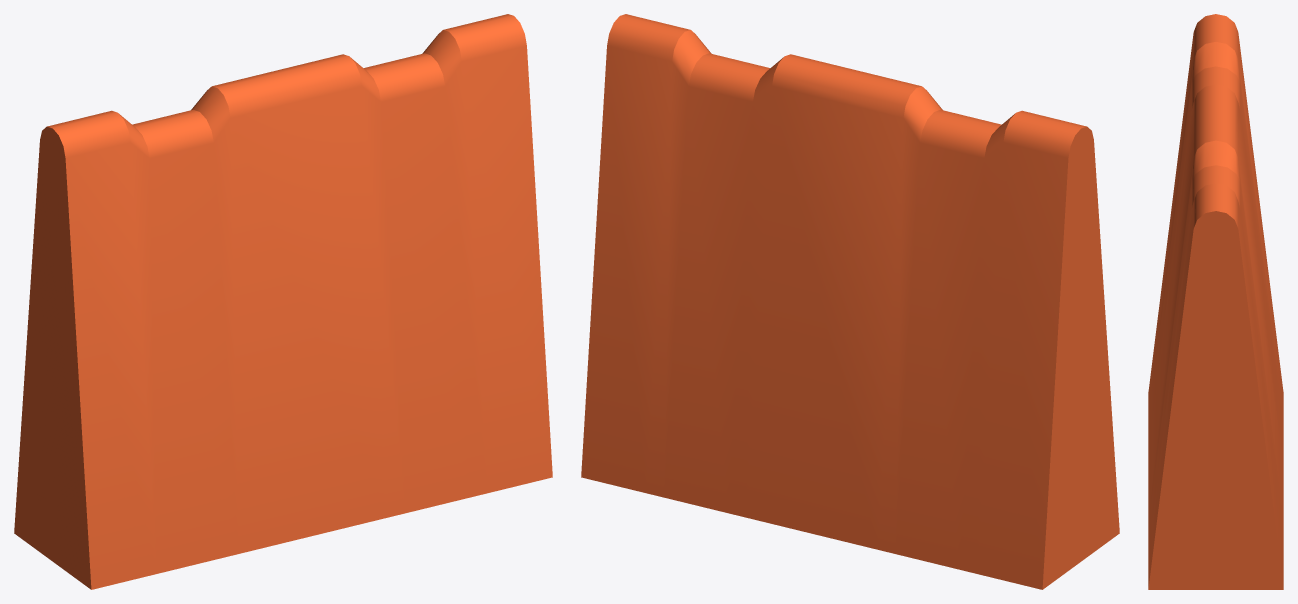
The model's file is Barrier D.fbx.
3 views of the same model, side by side, from view 1: azimuth 30°, elevation 25°; view 2: azimuth 150°, elevation 25°; view 3: azimuth 270°, elevation 25° (orthographic). The views are drawn at different scales.
Visible parts, largest first — view 1: Barrier D; view 2: Barrier D; view 3: Barrier D.
Part boxes in pixels (x1=…): Barrier D: x1=14, y1=14, x2=552, y2=589; Barrier D: x1=581, y1=14, x2=1119, y2=589; Barrier D: x1=1148, y1=14, x2=1283, y2=589.
Size of the model in its own units: 2.23 by 2 by 0.6471.
